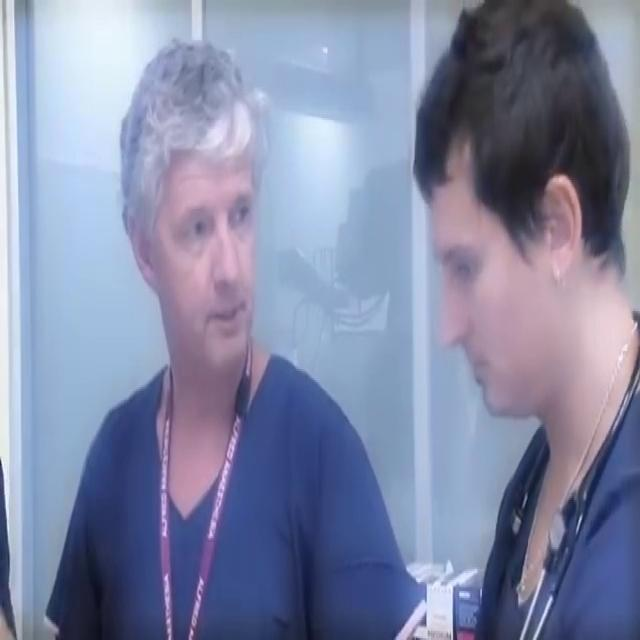nurse: (44, 35, 427, 638), (412, 0, 639, 636)
